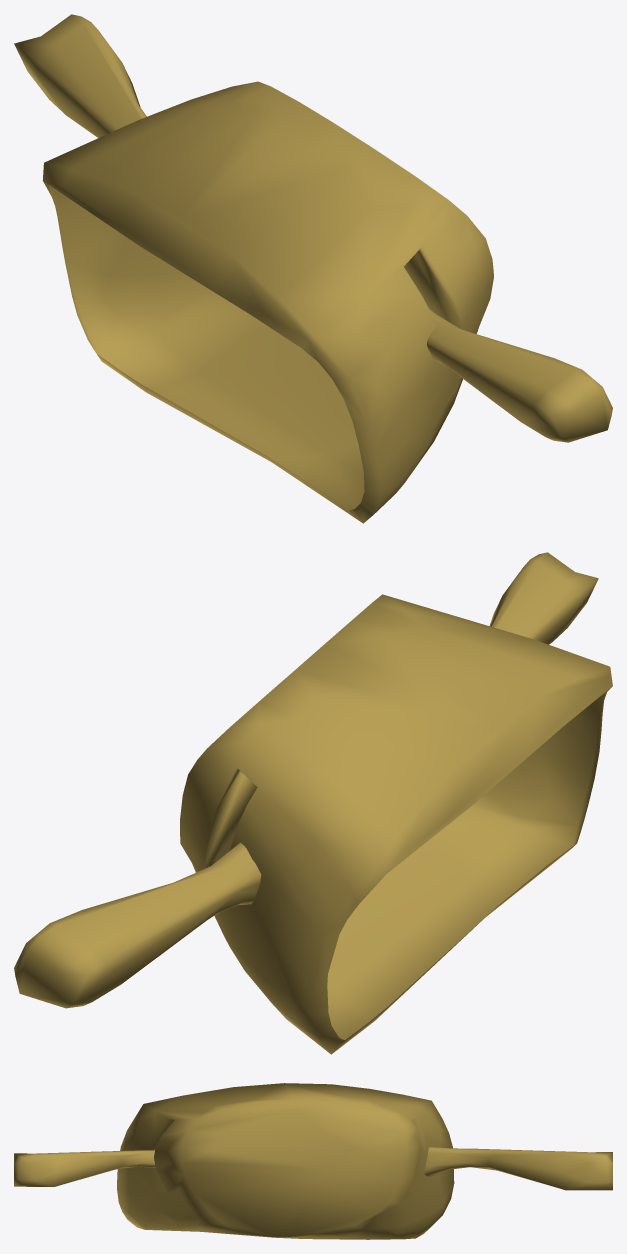
Rendered from Stay still.obj.
3 renders of one model, top to bottom at view 1: azimuth 30°, elevation 25°; view 2: azimuth 150°, elevation 25°; view 3: azimuth 270°, elevation 25°, orthographic. The views are drawn at different scales.
Size of the model in its own units: 123 by 135 by 434.
